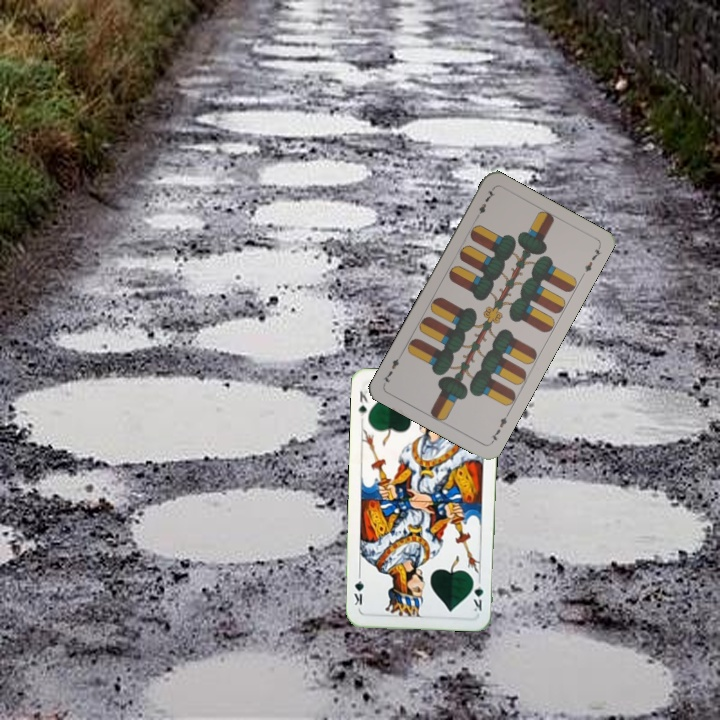E7: (471, 185, 498, 222), (487, 408, 512, 446)
GK: (469, 575, 485, 614), (355, 386, 371, 419)
